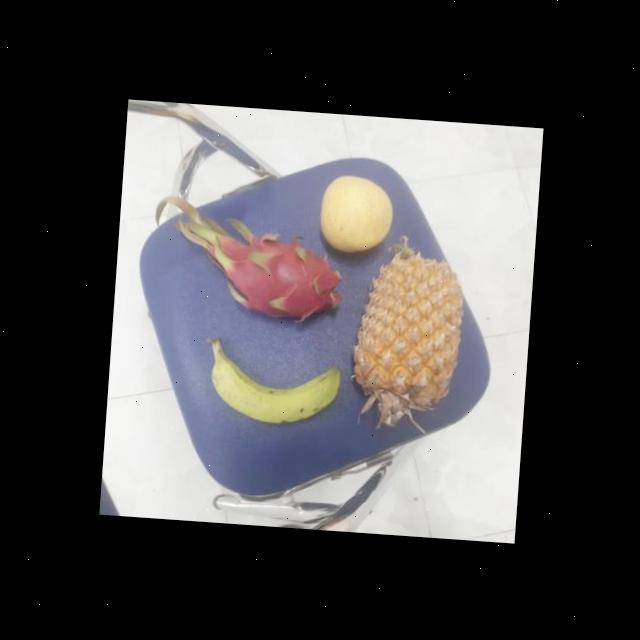banana: (194, 336, 338, 426)
pear: (314, 170, 396, 254)
pineapple: (346, 240, 464, 417)
pitaya: (204, 228, 344, 326)
